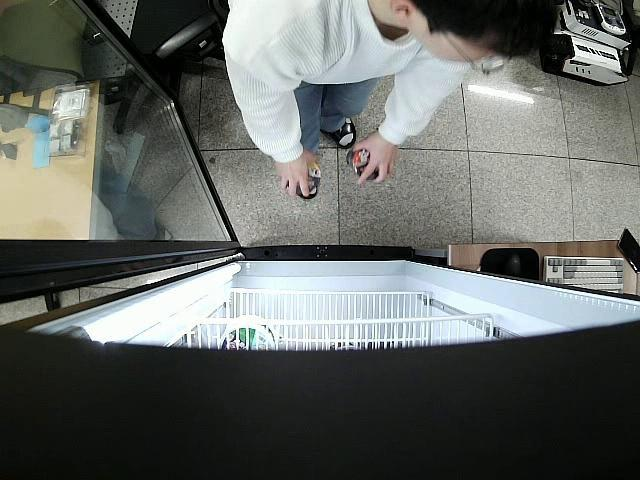08_buldak_S: (293, 158, 320, 199), (347, 146, 378, 180)
